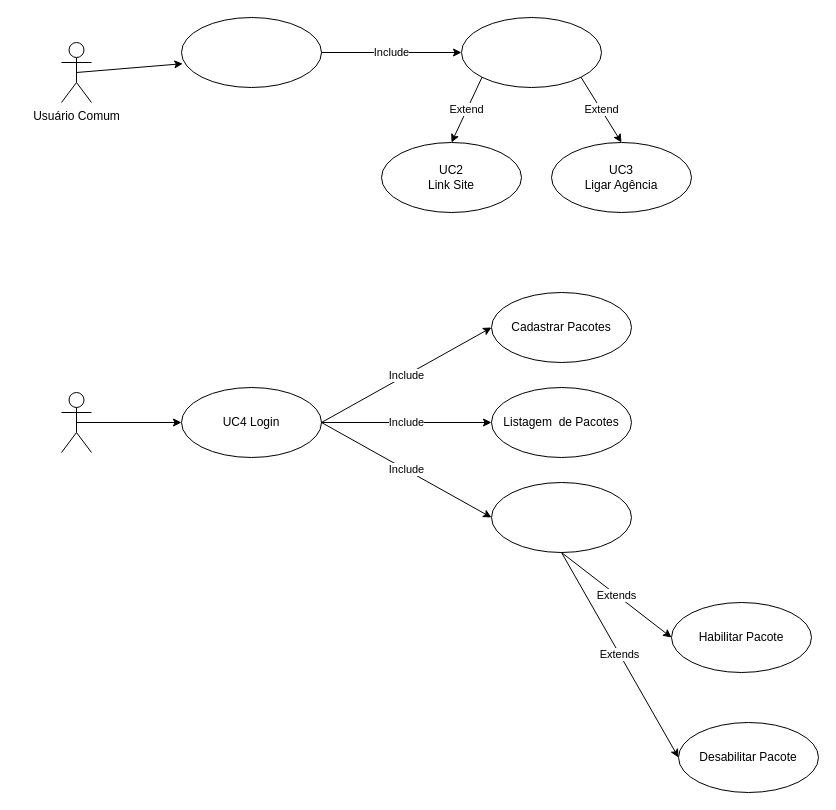
The diagram is 836 pixels wide and 810 high, and some of its shapes have lost their labels. Here are the shapes that lost their labels. From the top down, the centre of each, then its label:
At (251,52): "UC1 Selecionar Pacote".
At (531,52): "Descrição Pacote".
At (76,422): "Usuário Administrador".
At (561,517): "Editar Pacotes".
